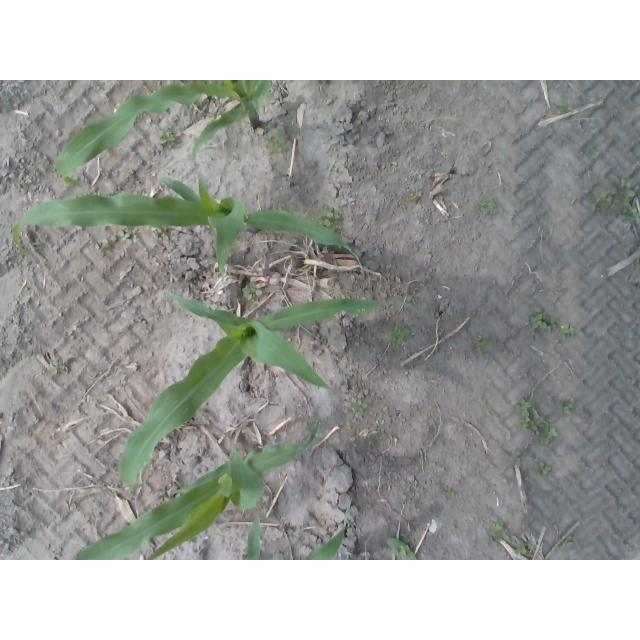Maize: (116, 289, 417, 487), (12, 173, 365, 276), (75, 420, 321, 560), (55, 80, 273, 188), (245, 510, 419, 560)
Weeds: (590, 188, 619, 211), (243, 283, 262, 302), (321, 209, 341, 227), (531, 314, 548, 330), (476, 338, 493, 354), (161, 132, 180, 146), (518, 409, 530, 431), (622, 189, 635, 209), (619, 208, 638, 221), (543, 424, 557, 440), (516, 399, 536, 409), (531, 417, 542, 435), (272, 132, 288, 144), (536, 462, 552, 474), (392, 546, 408, 558), (557, 99, 571, 112), (546, 317, 559, 331), (491, 522, 505, 535), (390, 330, 405, 342), (622, 178, 638, 189), (407, 189, 424, 199), (585, 142, 597, 156), (514, 539, 526, 553), (560, 536, 572, 550), (558, 404, 574, 414), (266, 142, 278, 154), (563, 325, 574, 338), (519, 453, 534, 462), (119, 231, 129, 242), (357, 401, 368, 411), (541, 440, 550, 452), (446, 489, 456, 498), (486, 198, 494, 207), (25, 176, 32, 184), (477, 201, 484, 209), (486, 411, 490, 416)
